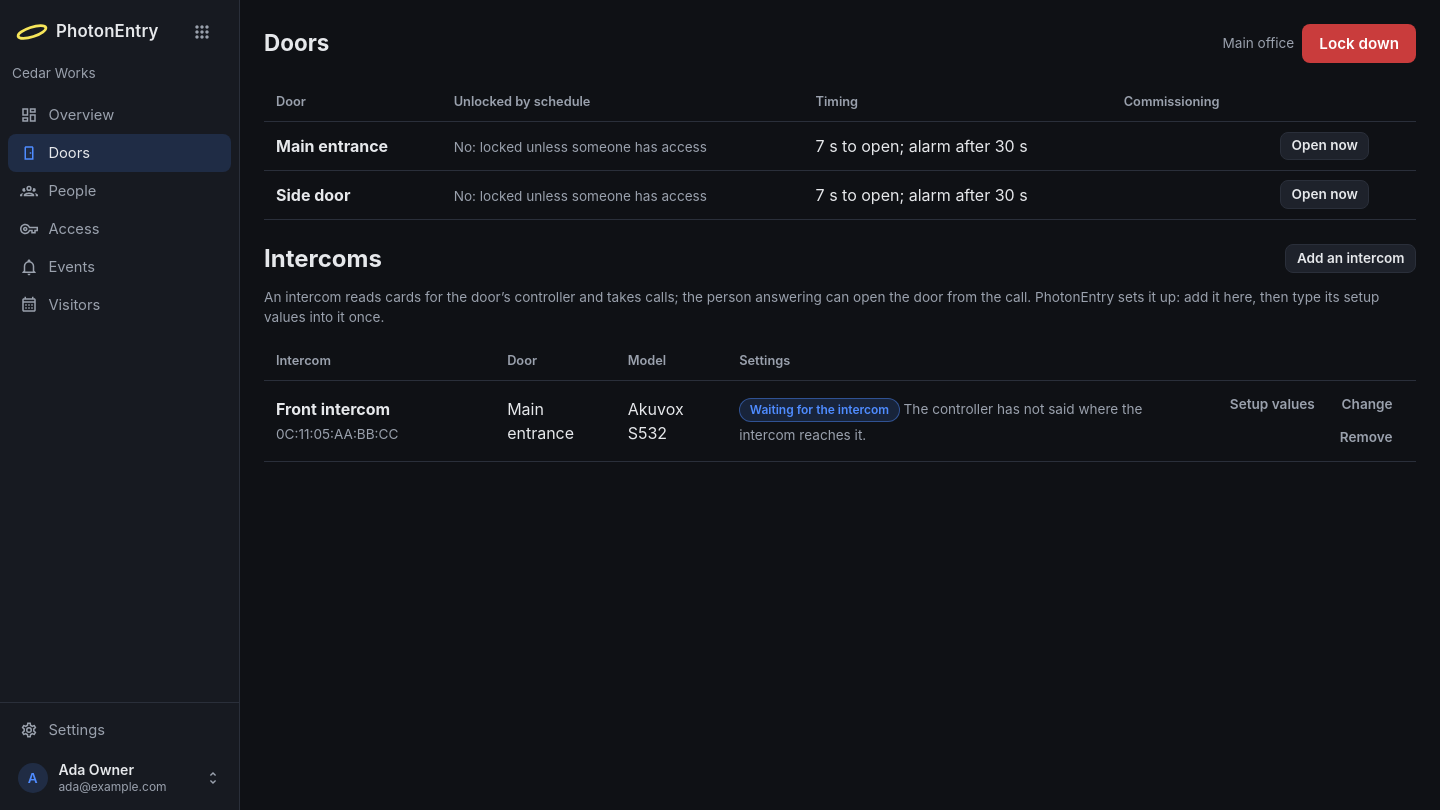
Test case: Intercoms › says when the controller has not reported its address, and when a request fails
The width and height of the screenshot is (1440, 810).
Check: the text "The controller has not said where the intercom reaches it." is shown, box top-left (739, 401), bottom-right (1142, 443)
Click the button "Setup values": (1272, 405) top-left (1218, 390), bottom-right (1326, 419)
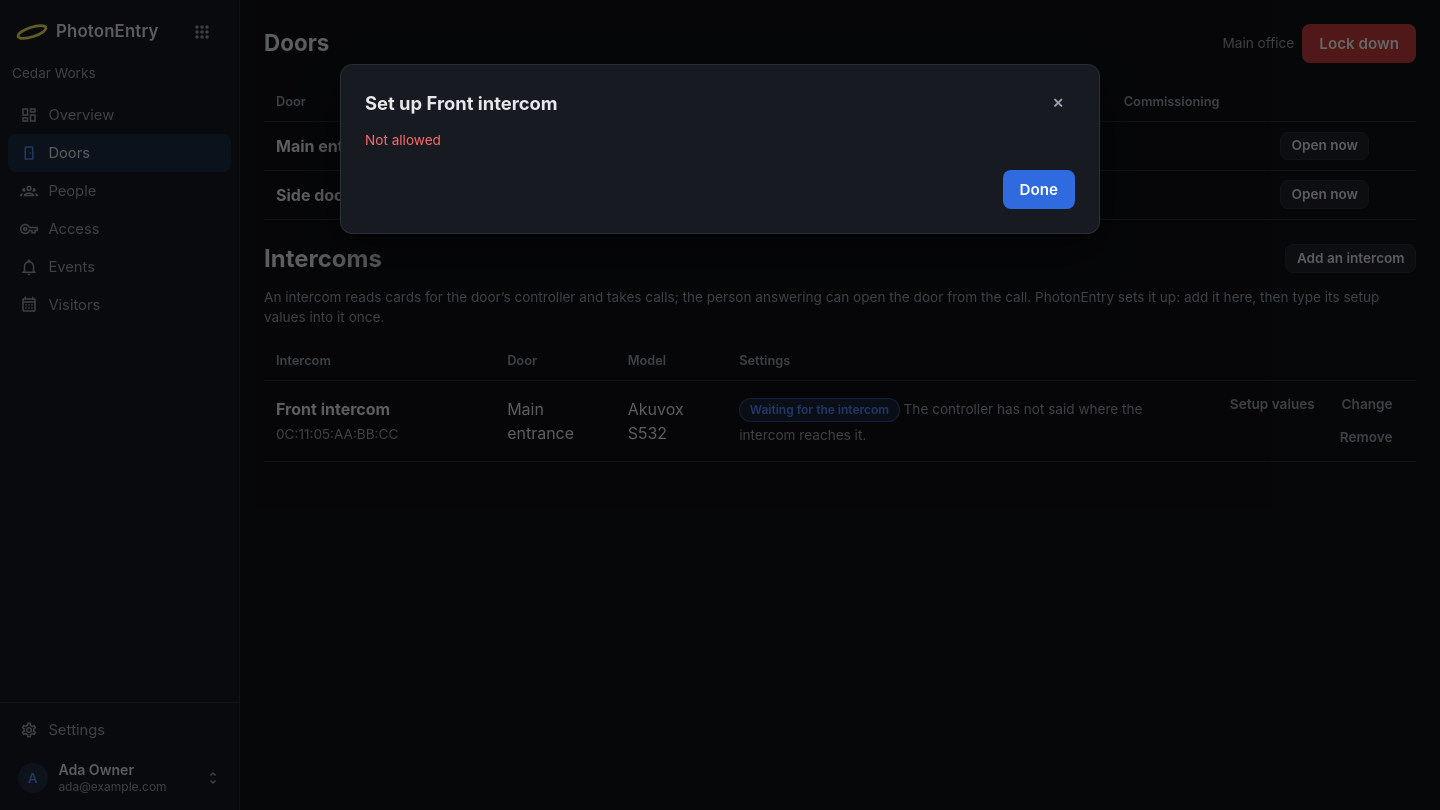
Check: the text "Not allowed" is shown, box top-left (365, 132), bottom-right (441, 148)
